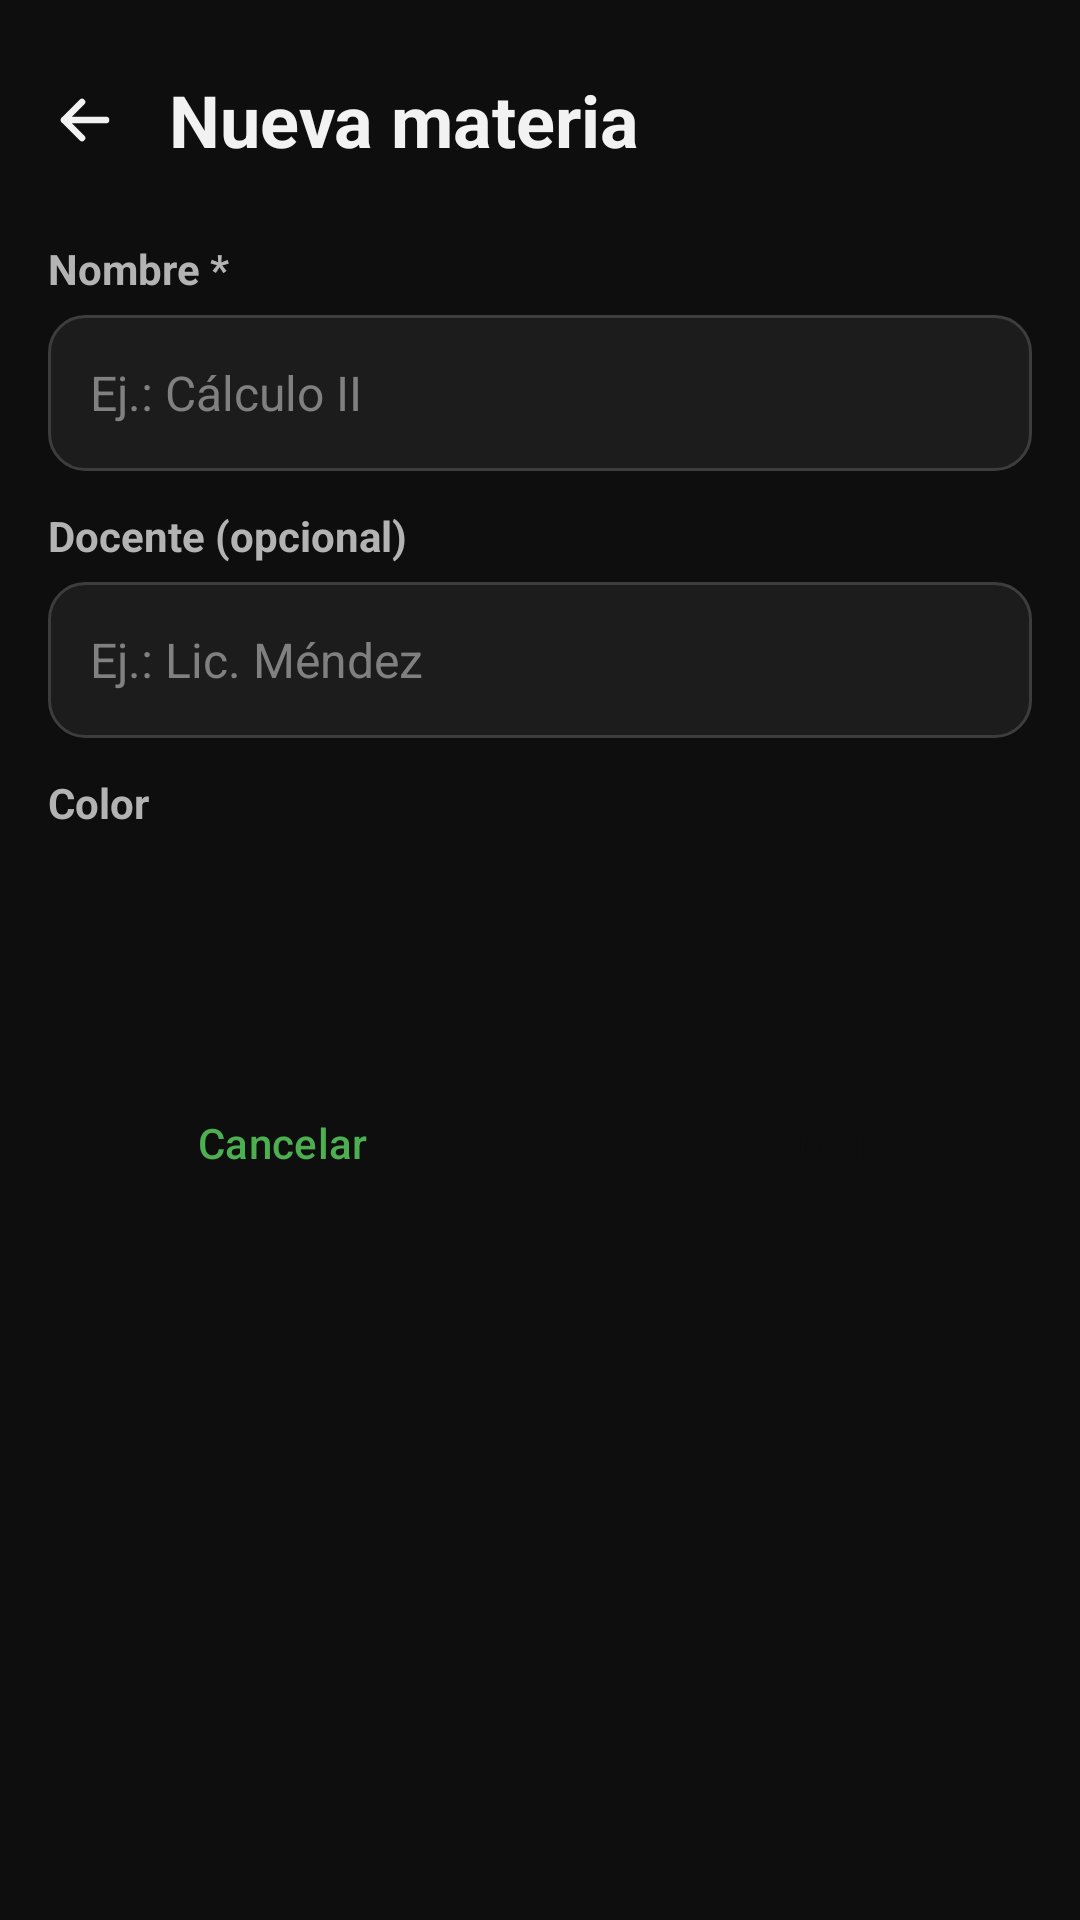

Named icons in this screenshot (1080w x 1920h) and their bounding boxes, (x1, y1, x2, y2):
Volver: (60, 98, 110, 142)
